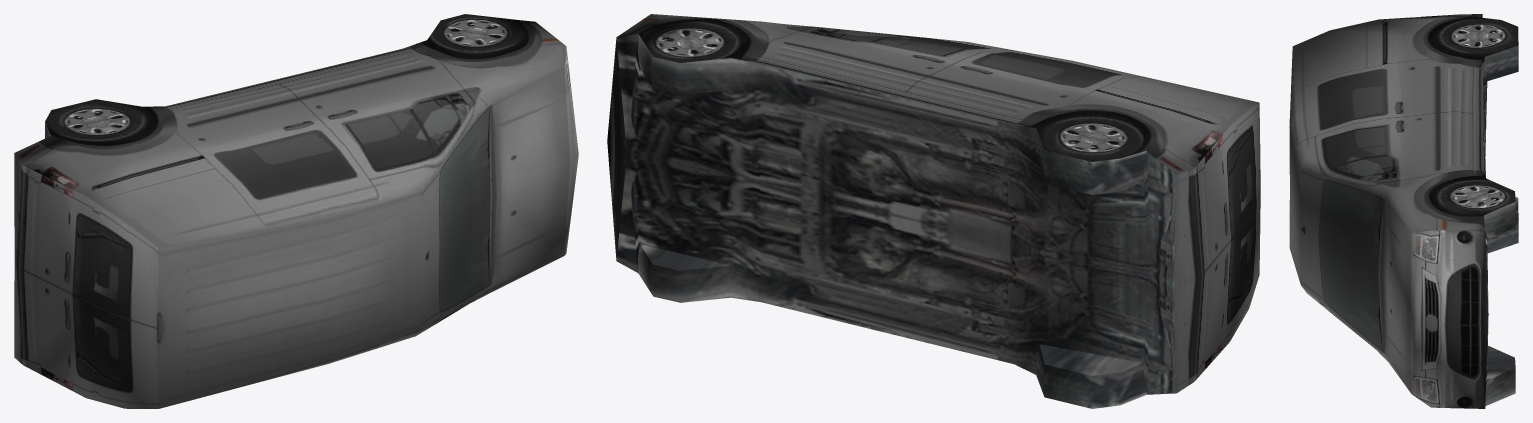
File: ny_harbor_veh_civ_car_a_4_LOD0.obj
The picture shows the model from 3 angles, left to right: view 1: azimuth 30°, elevation 25°; view 2: azimuth 150°, elevation 25°; view 3: azimuth 270°, elevation 25°; orthographic projection. The views are drawn at different scales.
Visible parts, largest first — view 1: mtl_ac_prs_vehicle_sheet_a; view 2: mtl_ac_prs_vehicle_sheet_a; view 3: mtl_ac_prs_vehicle_sheet_a.
Part boxes in pixels (box(x1,y1,x2,y2)): mtl_ac_prs_vehicle_sheet_a: box(14, 14, 578, 408); mtl_ac_prs_vehicle_sheet_a: box(607, 14, 1260, 408); mtl_ac_prs_vehicle_sheet_a: box(1289, 14, 1518, 408).
Size of the model in its own units: 565 by 228 by 239.
